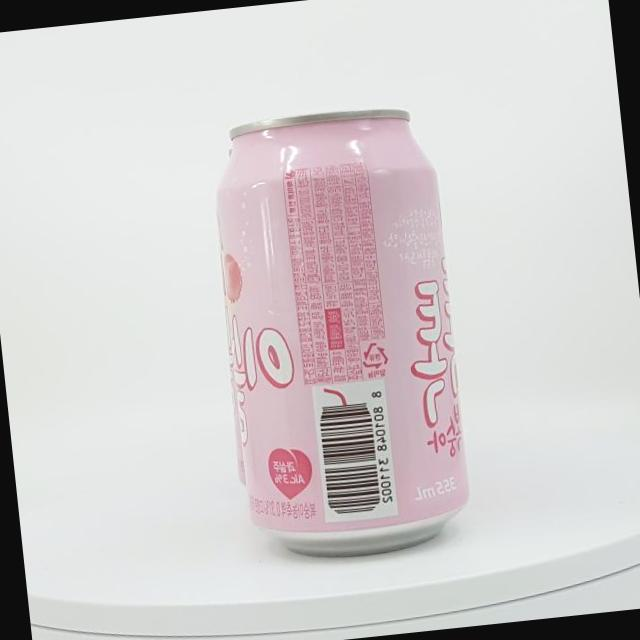can: (198, 96, 482, 568)
